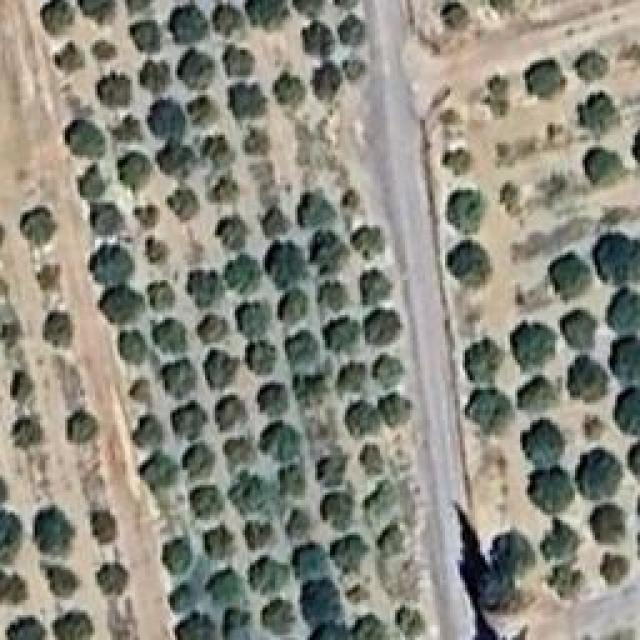Tree: (592, 233, 640, 286), (575, 448, 623, 501), (510, 323, 556, 373), (528, 465, 574, 514), (490, 530, 535, 579), (300, 578, 343, 629), (523, 420, 567, 469), (465, 388, 511, 434), (448, 240, 493, 286), (265, 242, 308, 290), (550, 252, 593, 300), (35, 507, 76, 557), (568, 355, 608, 403), (90, 245, 134, 288), (578, 93, 619, 138), (100, 285, 145, 325), (448, 190, 487, 235), (230, 473, 269, 517), (310, 230, 348, 275), (465, 337, 503, 382), (540, 518, 579, 561), (148, 100, 187, 142), (155, 138, 197, 177), (65, 120, 105, 160), (260, 424, 300, 464), (140, 453, 179, 494), (248, 555, 289, 594), (525, 60, 566, 99), (583, 148, 624, 187), (560, 310, 598, 351), (607, 287, 640, 334), (225, 255, 263, 295), (330, 535, 368, 575), (363, 480, 396, 525), (170, 5, 209, 43), (230, 82, 268, 120), (518, 375, 557, 412), (20, 207, 56, 247), (178, 50, 214, 90), (610, 335, 640, 383), (298, 193, 337, 229), (173, 403, 209, 442), (293, 543, 329, 582), (205, 350, 240, 390), (590, 505, 625, 545), (188, 270, 224, 308), (365, 310, 403, 346), (322, 318, 360, 354), (118, 153, 152, 193), (163, 360, 197, 400), (320, 493, 354, 532), (245, 0, 289, 30), (548, 563, 583, 600), (345, 400, 380, 436), (263, 598, 297, 635), (615, 388, 640, 438), (98, 73, 133, 108), (208, 568, 243, 603), (0, 509, 22, 564), (53, 612, 96, 640), (40, 0, 74, 35), (153, 320, 188, 354), (235, 304, 270, 338), (378, 393, 412, 428), (215, 215, 248, 251), (360, 270, 393, 306), (285, 330, 318, 366), (303, 20, 334, 58), (313, 63, 344, 101), (275, 72, 306, 110), (90, 203, 124, 237), (203, 135, 236, 170), (353, 225, 386, 260), (373, 355, 406, 390), (293, 373, 327, 406), (175, 612, 215, 640), (215, 395, 246, 431), (163, 537, 192, 575), (485, 75, 510, 119), (190, 485, 223, 518), (45, 565, 79, 597), (245, 340, 276, 375), (183, 443, 214, 478), (480, 573, 509, 610), (140, 60, 171, 94), (575, 50, 609, 81), (118, 330, 148, 365), (278, 288, 308, 323), (395, 605, 425, 640), (130, 20, 161, 53), (168, 190, 199, 223), (203, 525, 234, 558), (68, 410, 98, 444), (133, 415, 163, 449), (258, 383, 288, 417), (78, 165, 107, 200), (225, 437, 254, 472), (98, 563, 129, 595), (13, 418, 44, 450), (188, 95, 219, 127), (213, 5, 243, 38), (45, 314, 74, 348), (55, 43, 86, 74), (223, 45, 254, 76), (377, 523, 405, 557), (338, 363, 368, 394), (600, 553, 629, 585), (0, 570, 28, 603), (7, 617, 47, 640), (198, 315, 228, 345), (318, 283, 348, 313), (318, 458, 348, 488), (148, 280, 177, 311), (263, 208, 292, 239), (277, 465, 305, 497), (353, 615, 388, 640), (337, 15, 365, 46), (222, 608, 250, 639), (93, 510, 118, 544), (245, 523, 274, 552), (210, 175, 240, 203), (77, 0, 114, 22), (442, 3, 470, 32), (113, 115, 144, 141), (442, 147, 470, 175), (310, 622, 353, 640), (285, 508, 310, 538), (10, 370, 34, 401), (360, 445, 384, 476), (245, 127, 270, 155), (170, 583, 193, 613), (500, 183, 520, 216), (145, 238, 169, 265), (135, 205, 160, 230), (38, 265, 62, 291), (130, 378, 153, 405), (585, 415, 606, 442), (293, 0, 324, 18), (93, 40, 118, 61), (0, 320, 20, 346), (343, 60, 366, 82), (345, 585, 369, 605), (627, 442, 640, 478), (343, 190, 362, 212), (620, 45, 640, 65), (125, 0, 152, 13), (632, 130, 640, 165), (550, 122, 563, 142), (335, 0, 360, 10), (0, 478, 9, 505)
